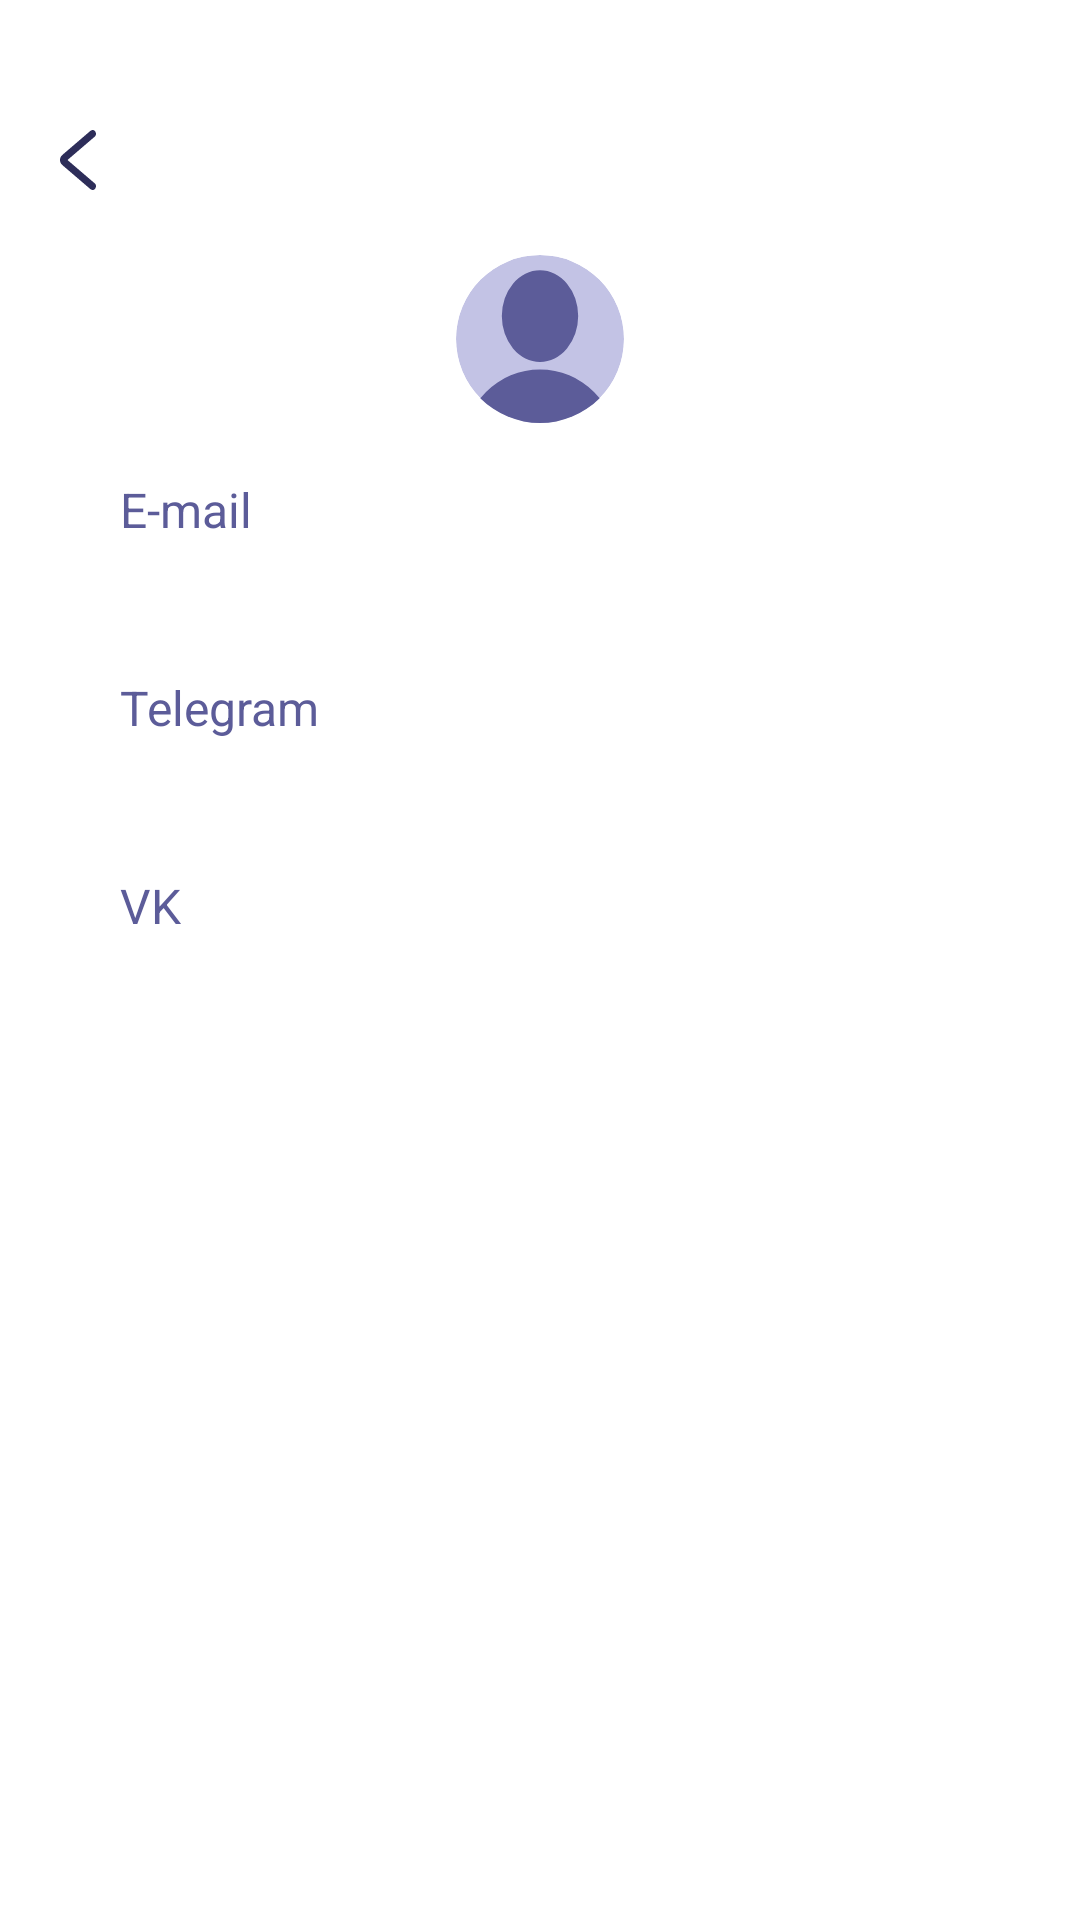

Screen size 1080px×1920px. Icon name, then its center in pixels as (x=x, y=y):
back to: (x=78, y=160)
